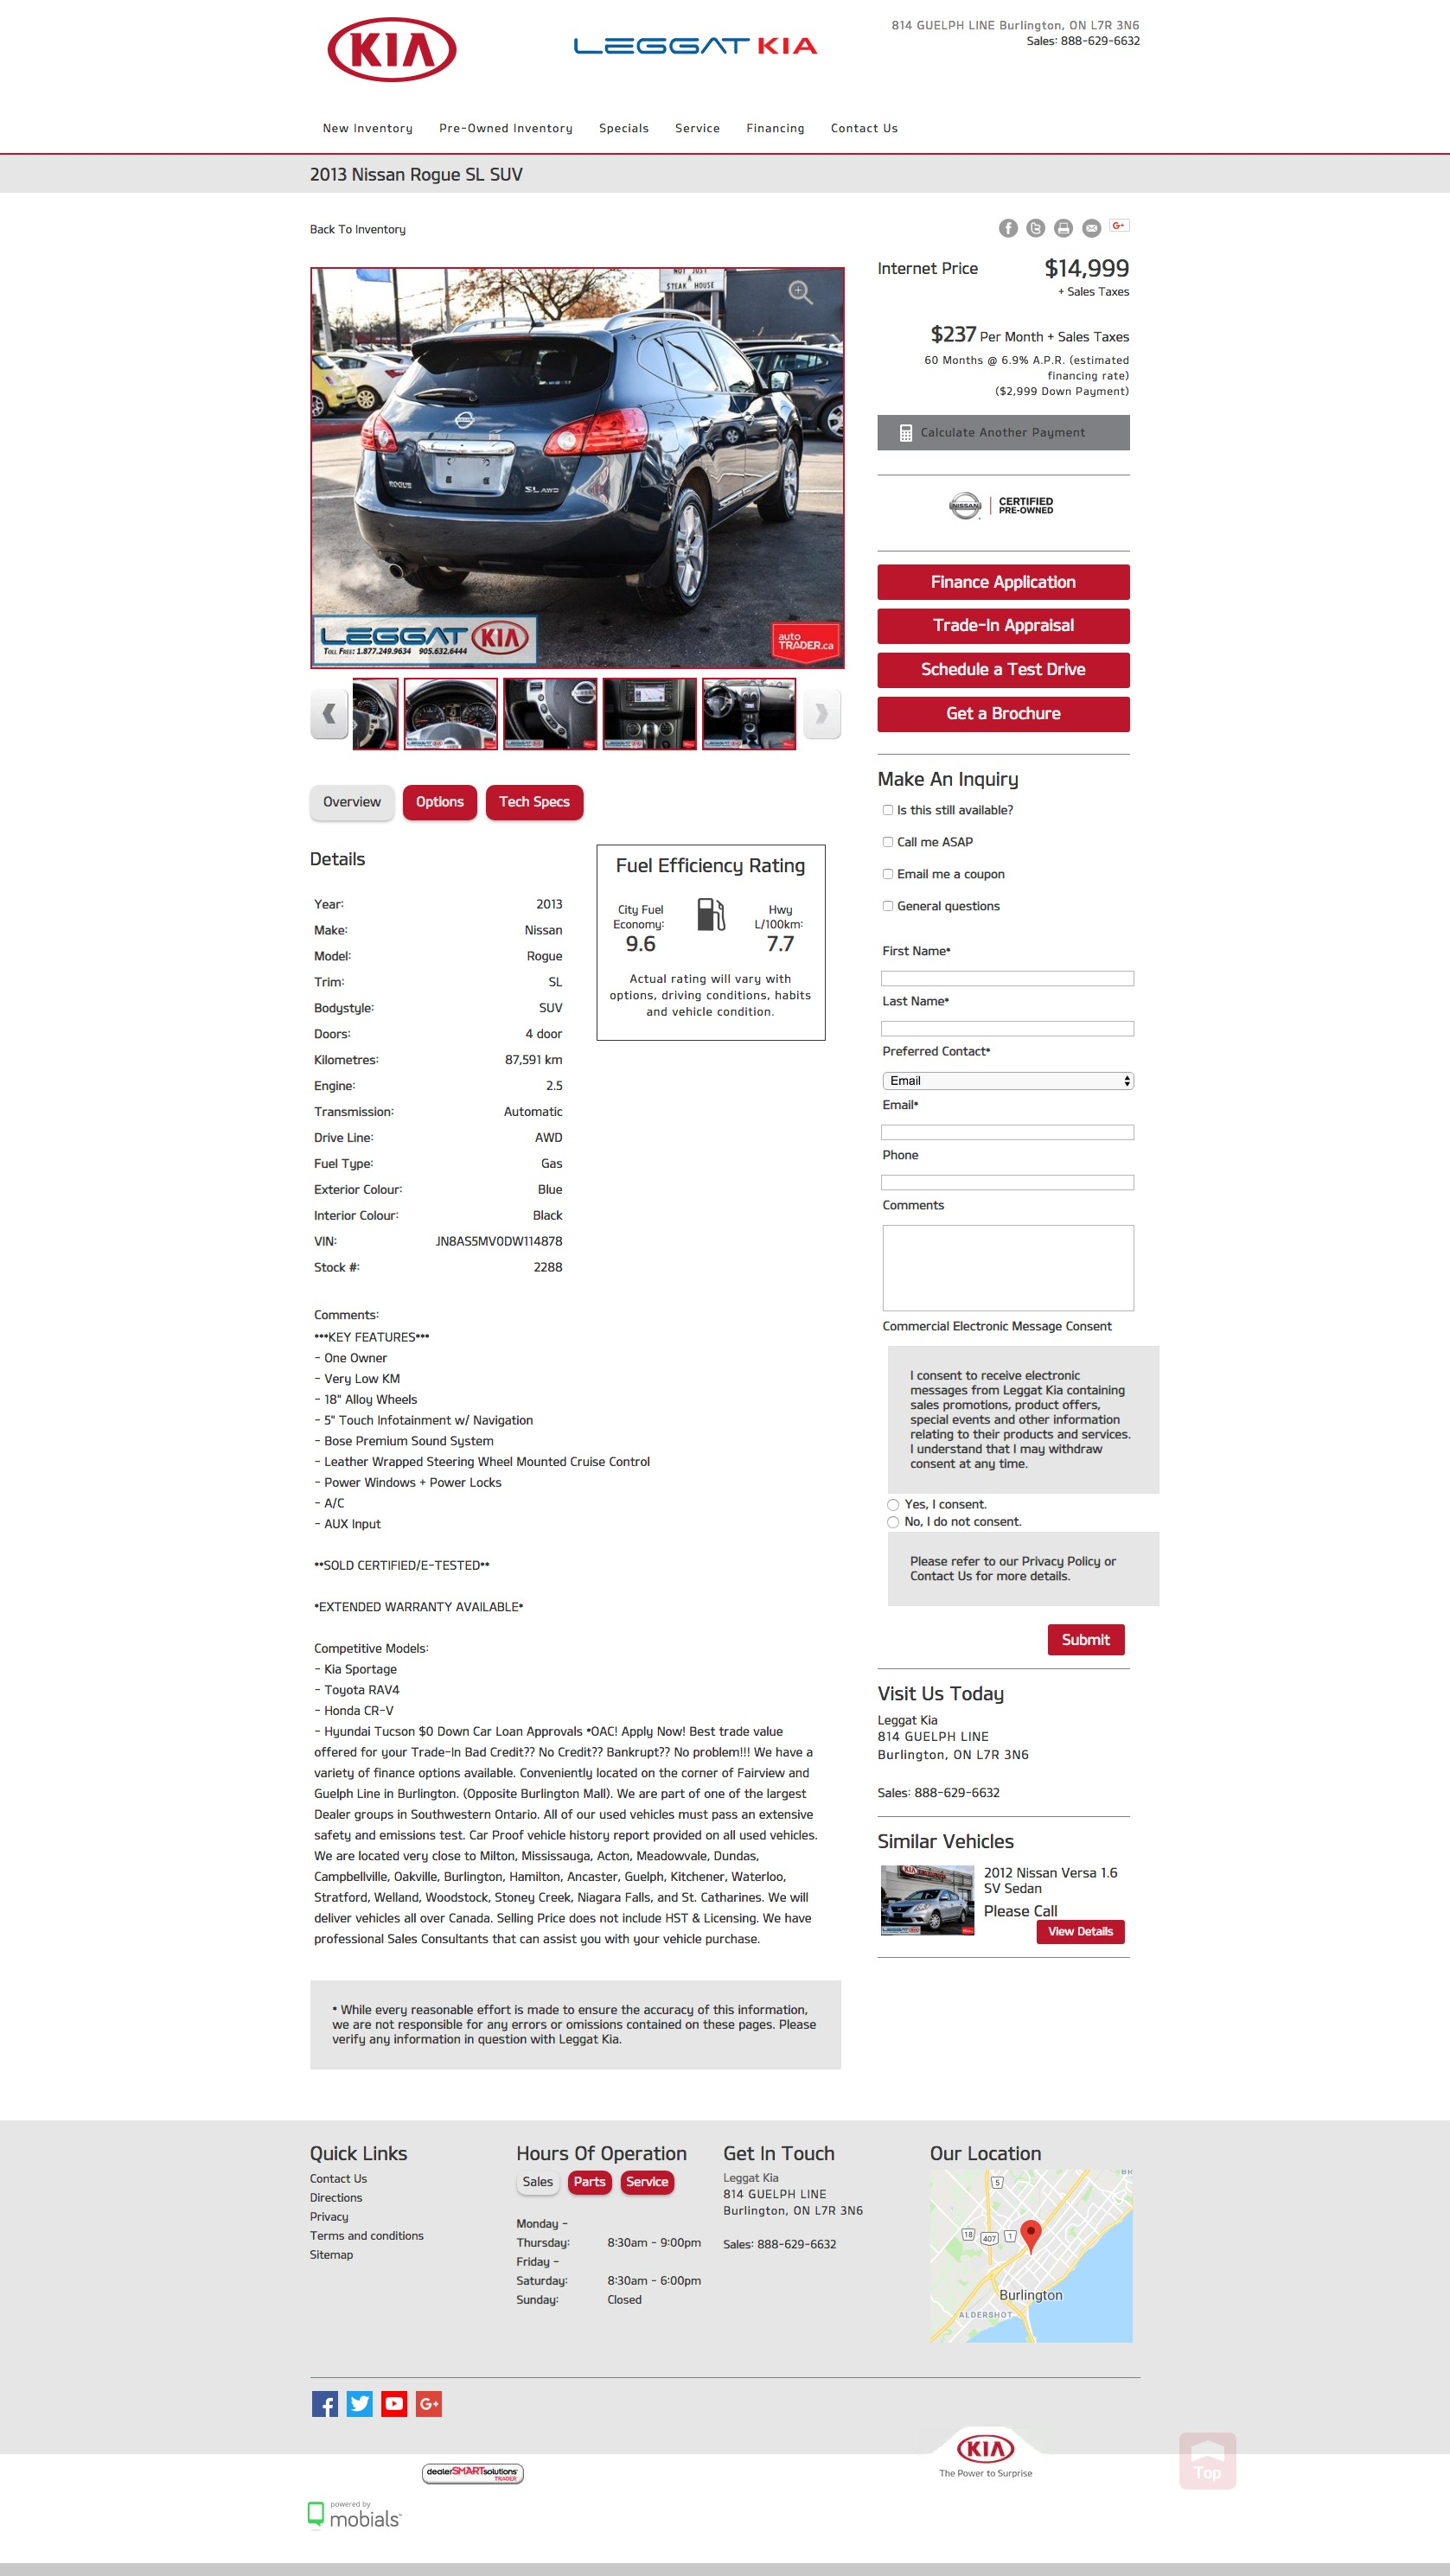car: (816, 702, 830, 725)
